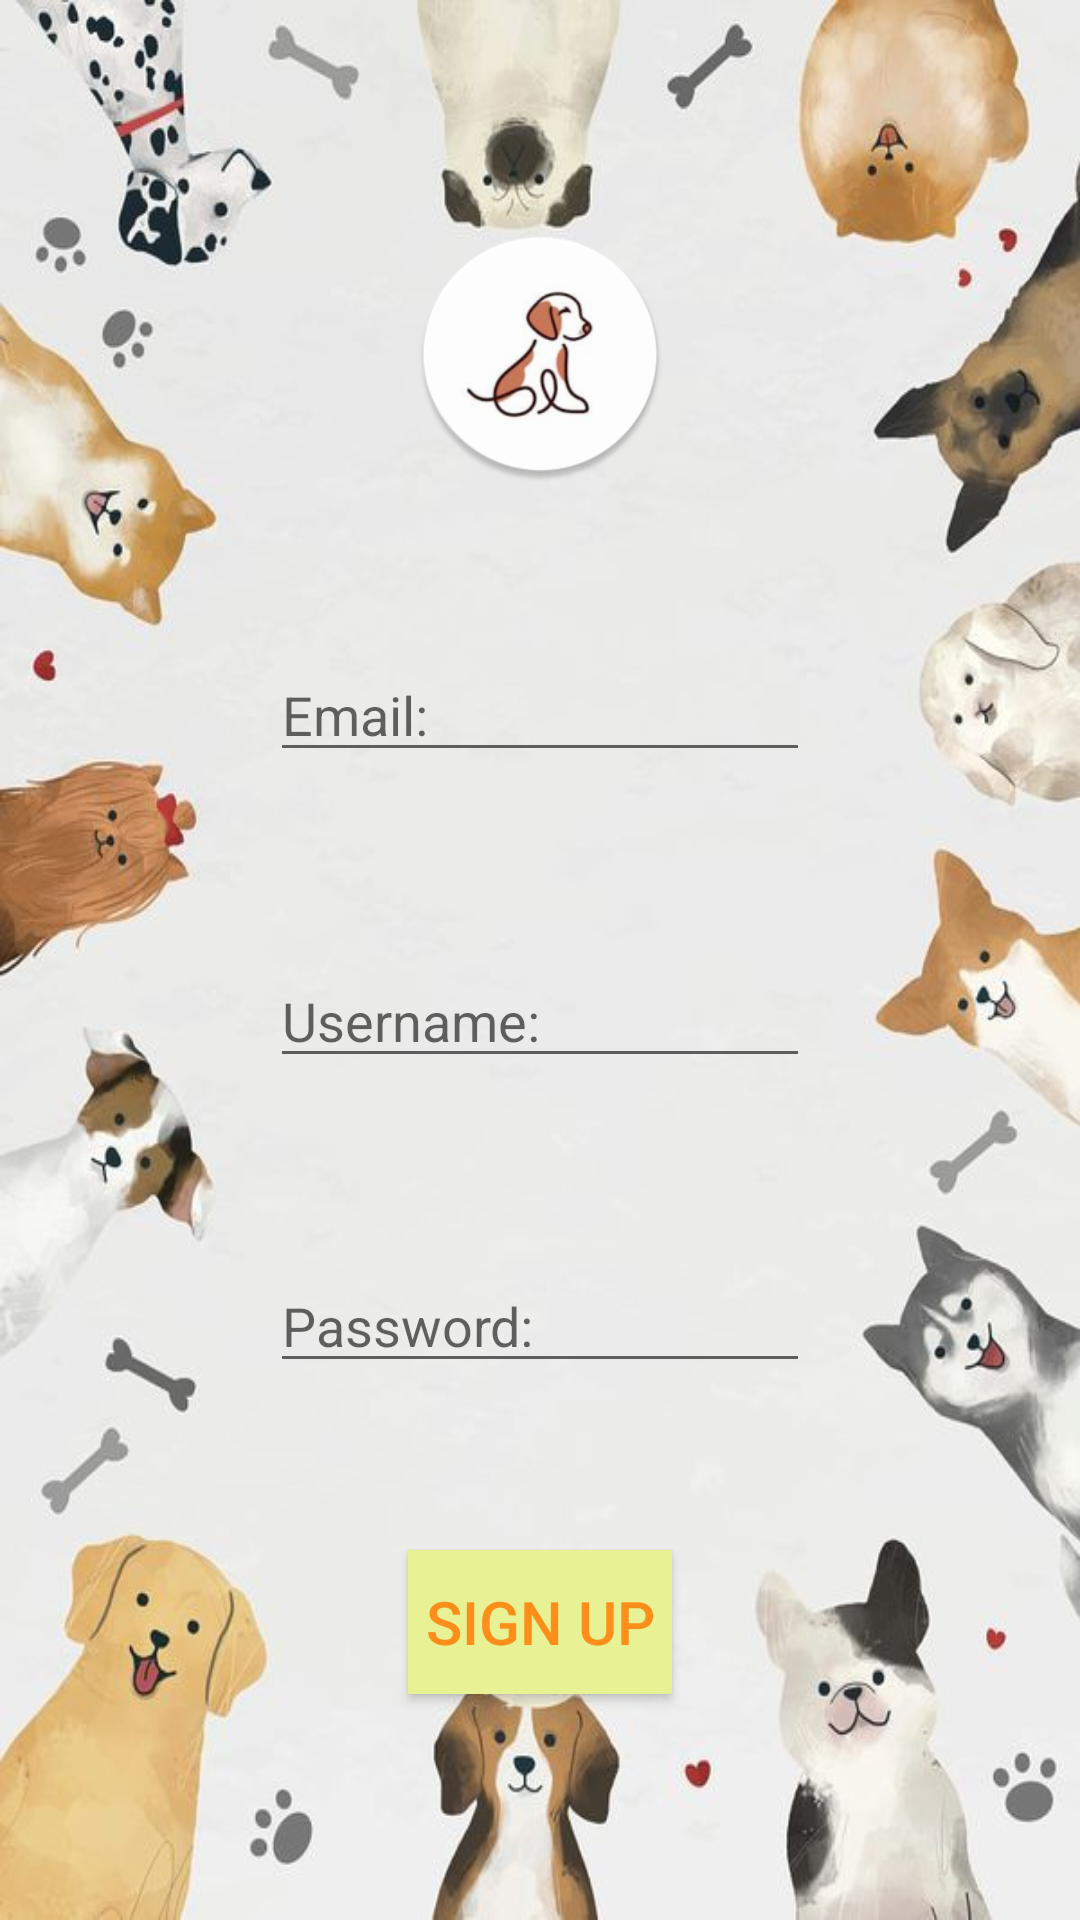

Point at icon controls on the screen. Image size 1080px×1920px, points as (x=x, y=y).
dog app profile round: (x=540, y=353)
